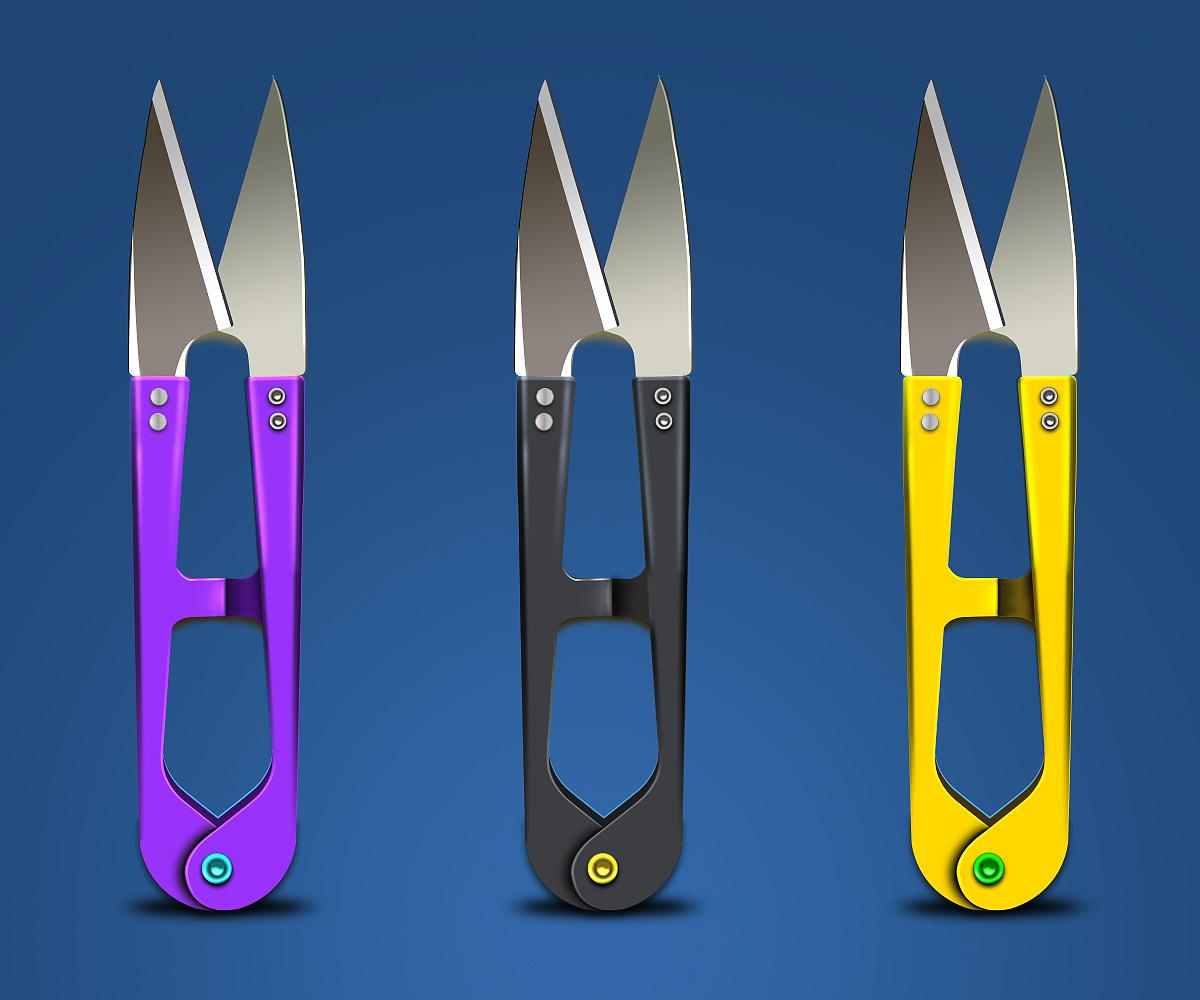scissor: (111, 54, 1146, 905)
